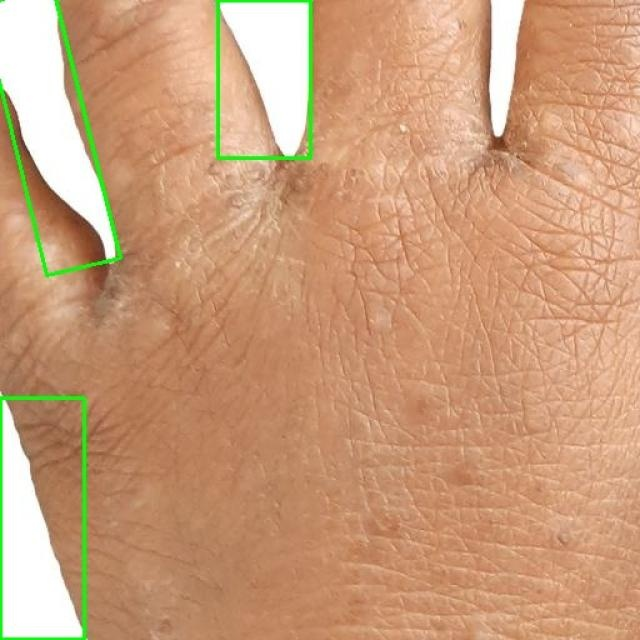Scabies: (0, 0, 121, 276), (0, 398, 84, 639), (218, 0, 310, 158)
